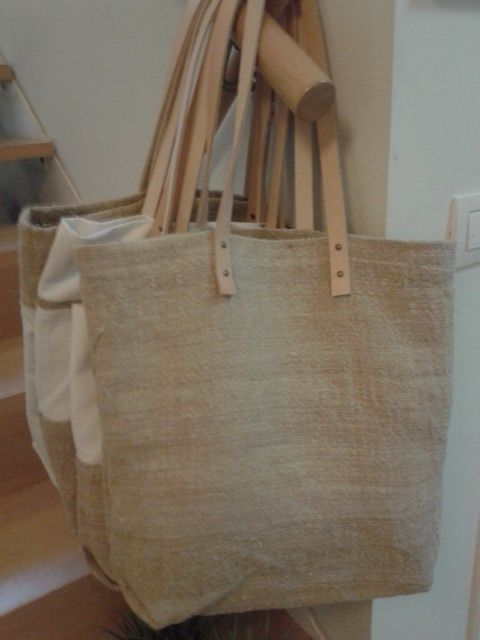cartera: (43, 19, 455, 618)
tela: (84, 251, 446, 594)
